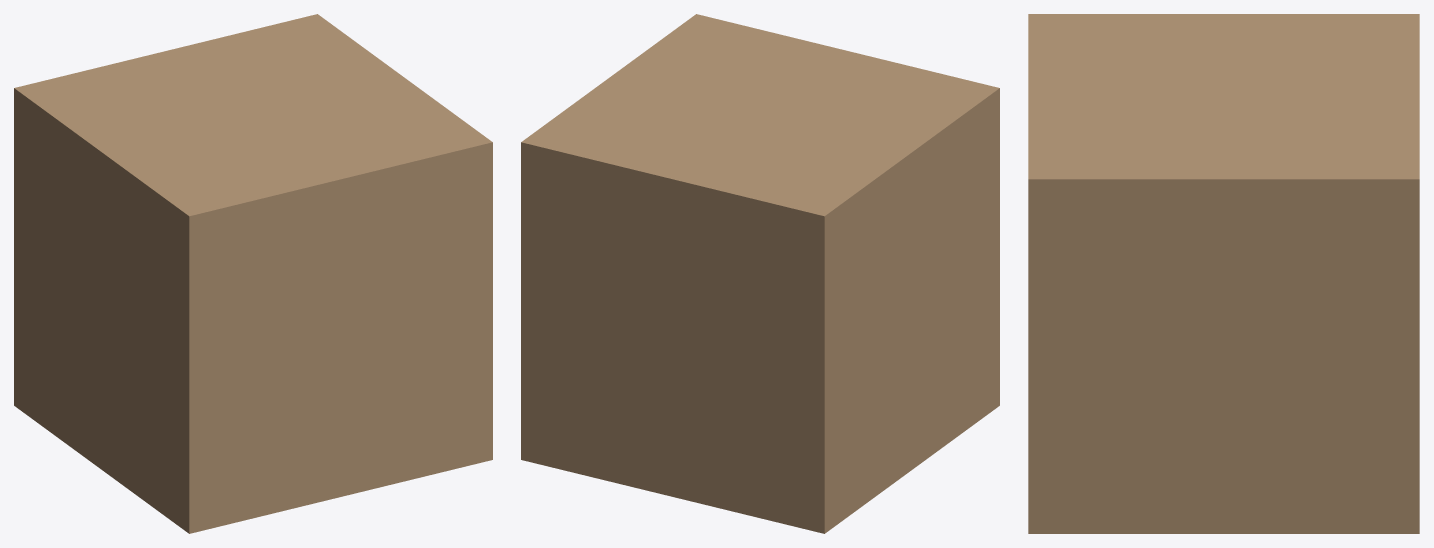
File: 91_door_frame.glb
3 renders of one model, left to right at view 1: azimuth 30°, elevation 25°; view 2: azimuth 150°, elevation 25°; view 3: azimuth 270°, elevation 25°, orthographic. The views are drawn at different scales.
Parts seen in each view (by area): view 1: Core, Panel; view 2: Core, Panel; view 3: Core, Panel.
Part boxes in pixels (x1,y1,x2,y2): Core: [14, 14, 492, 533]; Panel: [14, 218, 490, 403]; Core: [521, 14, 999, 533]; Panel: [524, 218, 999, 402]; Core: [1028, 14, 1419, 533]; Panel: [1028, 324, 1419, 388].
Size of the model in its own units: 1 by 1 by 1.
